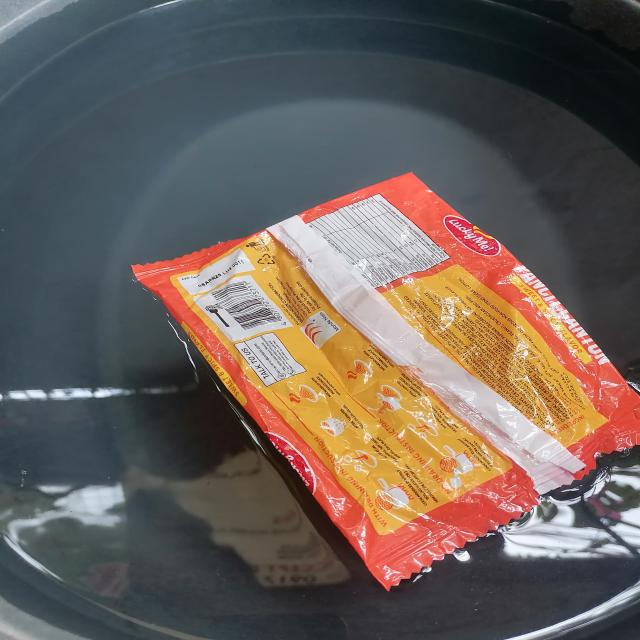Plastic Wrapper: (131, 173, 640, 589)
